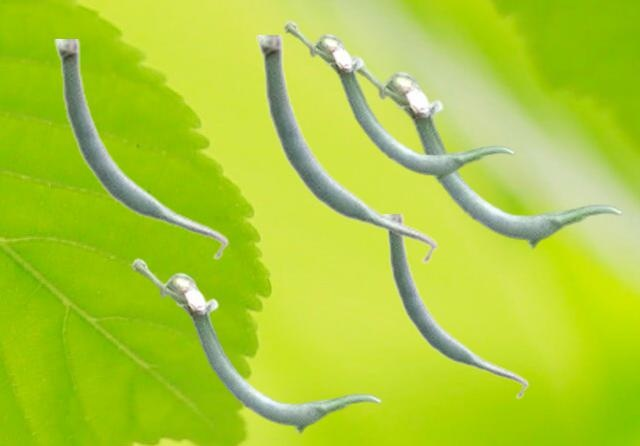french_bean: (352, 54, 622, 248), (131, 257, 381, 433), (256, 35, 437, 264), (54, 39, 228, 260), (283, 19, 514, 182), (383, 214, 528, 399)
